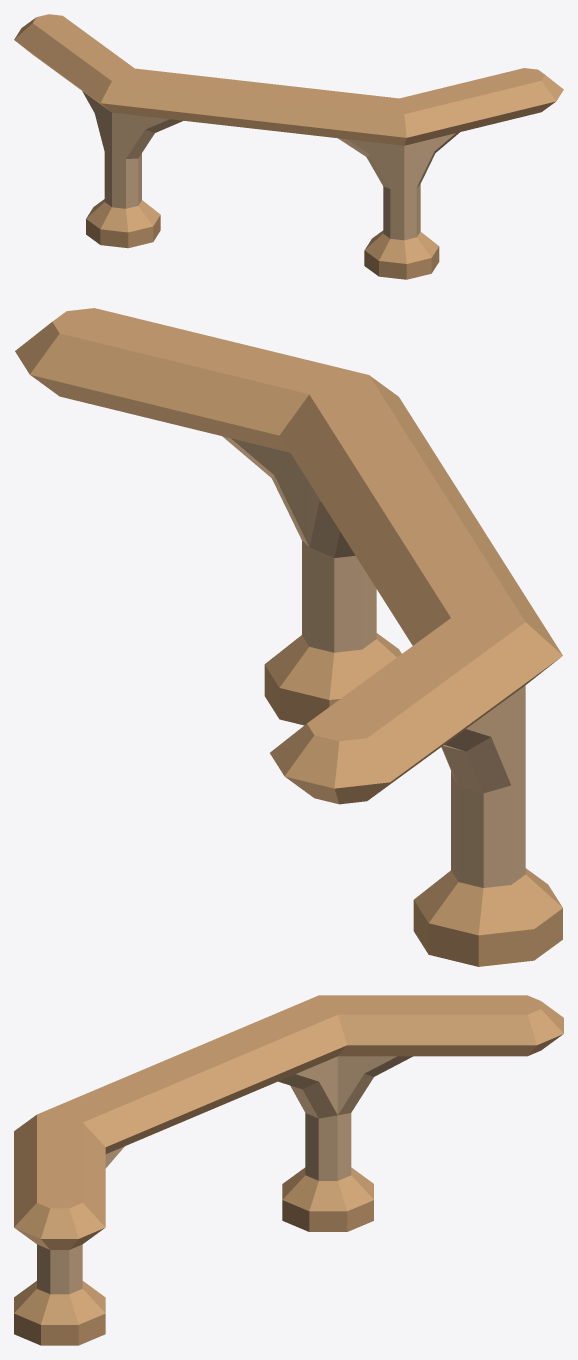
Rendered from Balcony_Railing_Curved_Small.fbx.
3 views of the same model, one above another, from view 1: azimuth 30°, elevation 25°; view 2: azimuth 150°, elevation 25°; view 3: azimuth 270°, elevation 25° (orthographic). The views are drawn at different scales.
Visible parts, largest first — view 1: Sandstone_5.Sandstone_5.Sandstone_5.Sandstone_5.Sandstone_5., Sandstone_4.Sandstone_4.Sandstone_4.Sandstone_4.Sandstone_4.; view 2: Sandstone_5.Sandstone_5.Sandstone_5.Sandstone_5.Sandstone_5., Sandstone_4.Sandstone_4.Sandstone_4.Sandstone_4.Sandstone_4.; view 3: Sandstone_5.Sandstone_5.Sandstone_5.Sandstone_5.Sandstone_5., Sandstone_4.Sandstone_4.Sandstone_4.Sandstone_4.Sandstone_4..
Boxes of the visible parts, x1=… form: Sandstone_5.Sandstone_5.Sandstone_5.Sandstone_5.Sandstone_5.: x1=14, y1=14, x2=563, y2=279; Sandstone_4.Sandstone_4.Sandstone_4.Sandstone_4.Sandstone_4.: x1=82, y1=91, x2=459, y2=240; Sandstone_5.Sandstone_5.Sandstone_5.Sandstone_5.Sandstone_5.: x1=15, y1=308, x2=562, y2=966; Sandstone_4.Sandstone_4.Sandstone_4.Sandstone_4.Sandstone_4.: x1=222, y1=436, x2=525, y2=887; Sandstone_5.Sandstone_5.Sandstone_5.Sandstone_5.Sandstone_5.: x1=14, y1=995, x2=563, y2=1345; Sandstone_4.Sandstone_4.Sandstone_4.Sandstone_4.Sandstone_4.: x1=37, y1=1056, x2=412, y2=1294.
Size of the model in its own units: 1.2 by 0.5 by 1.2.
